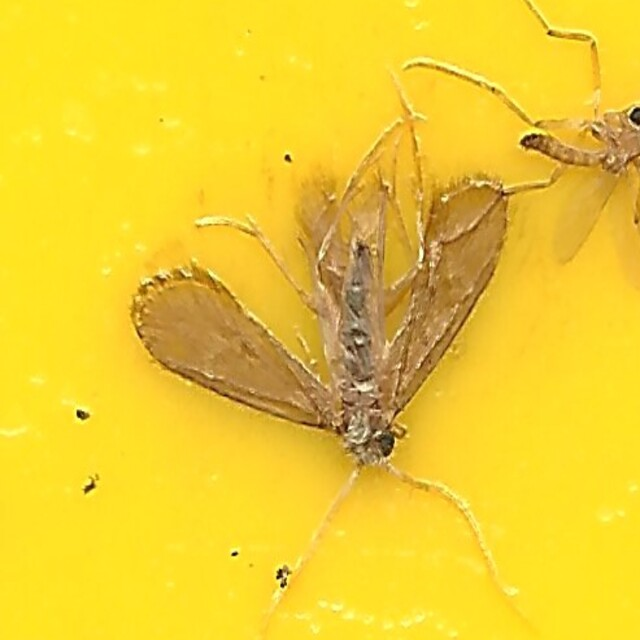Trichoptera: (130, 165, 510, 475)
